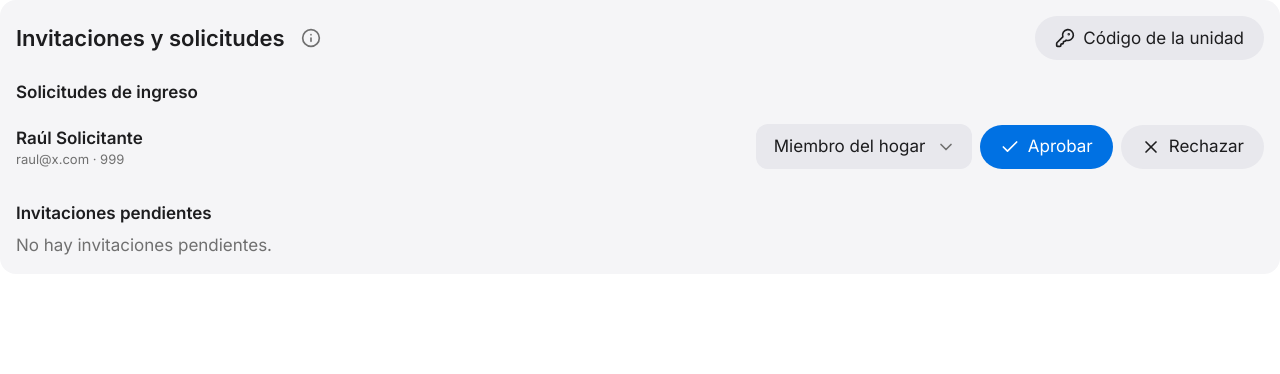
Test case: identity conflict on a join request › says the request needs review, keeps it listed and links to the verification list
The width and height of the screenshot is (1280, 374).
Click the button with aria-label "Aprobar a Raúl Solicitante": click(1046, 146) x1=980 y1=124 x2=1113 y2=168
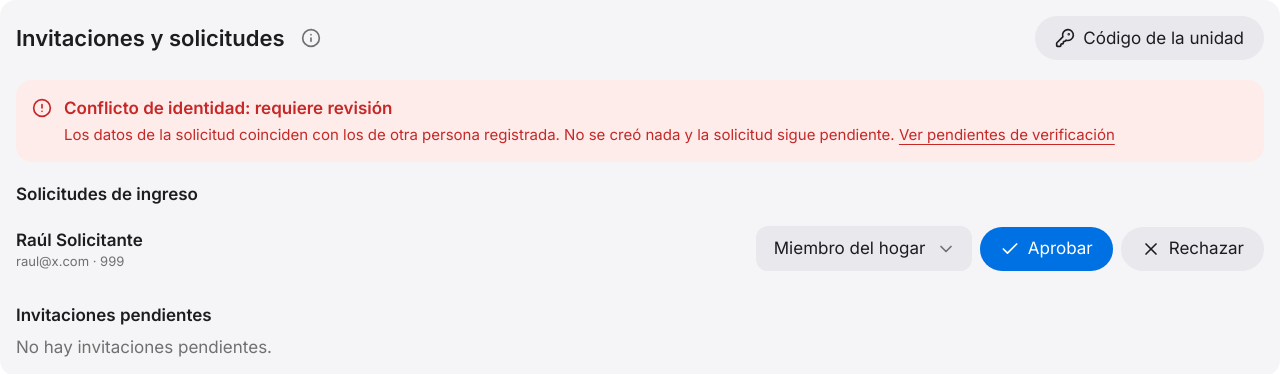
Check: the button with aria-label "Aprobar a Raúl Solicitante" is shown, box x1=980 y1=226 x2=1113 y2=270
Check: the message shows "Conflicto de identidad: requiere revisión", box x1=64 y1=98 x2=392 y2=118
